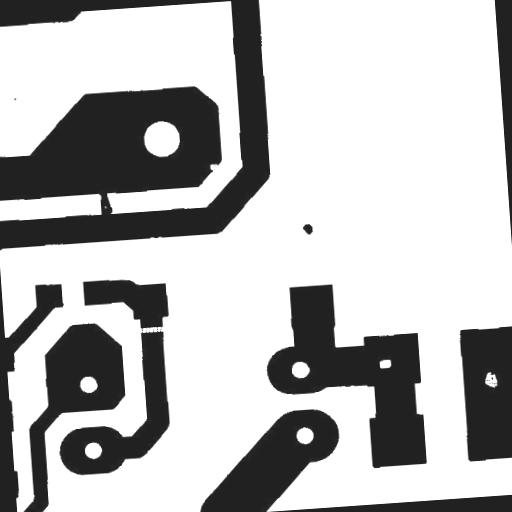copper: (294, 216, 321, 243)
mousebite: (202, 155, 226, 178)
open: (128, 318, 174, 341)
pin-hole: (476, 363, 505, 396), (371, 352, 399, 376)
short: (92, 181, 120, 224)
